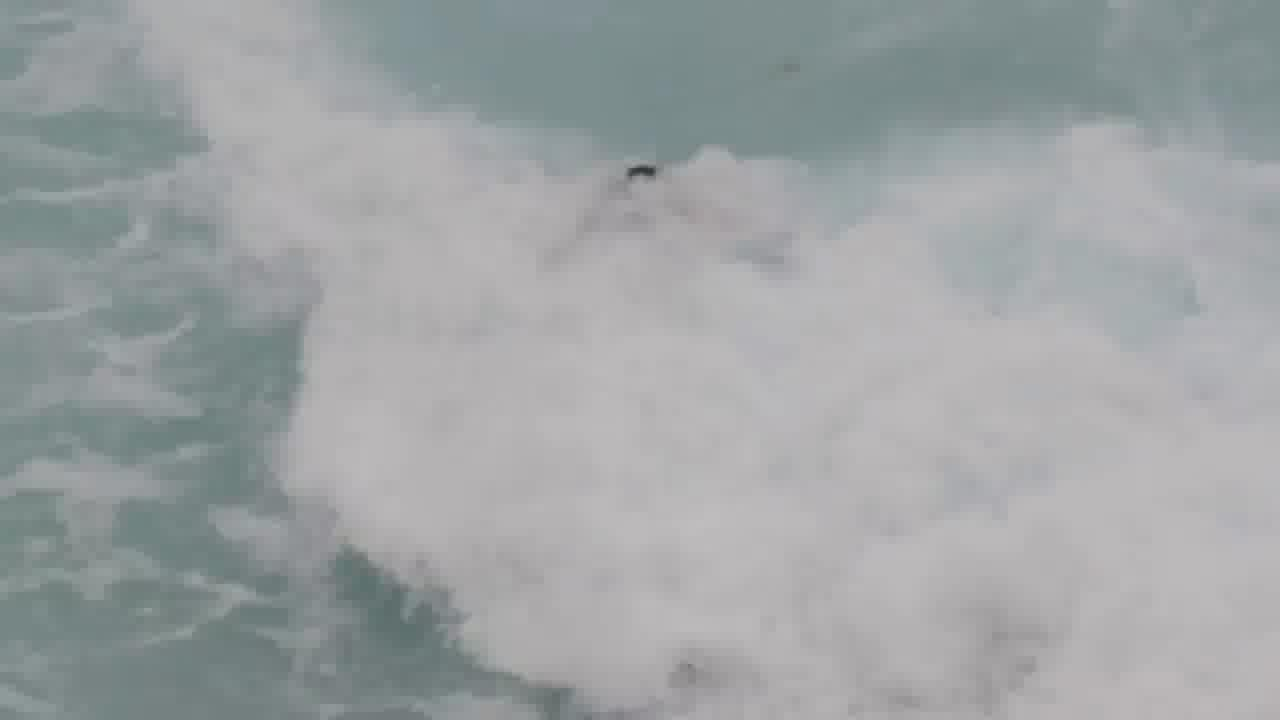swimmer: (592, 139, 674, 199)
